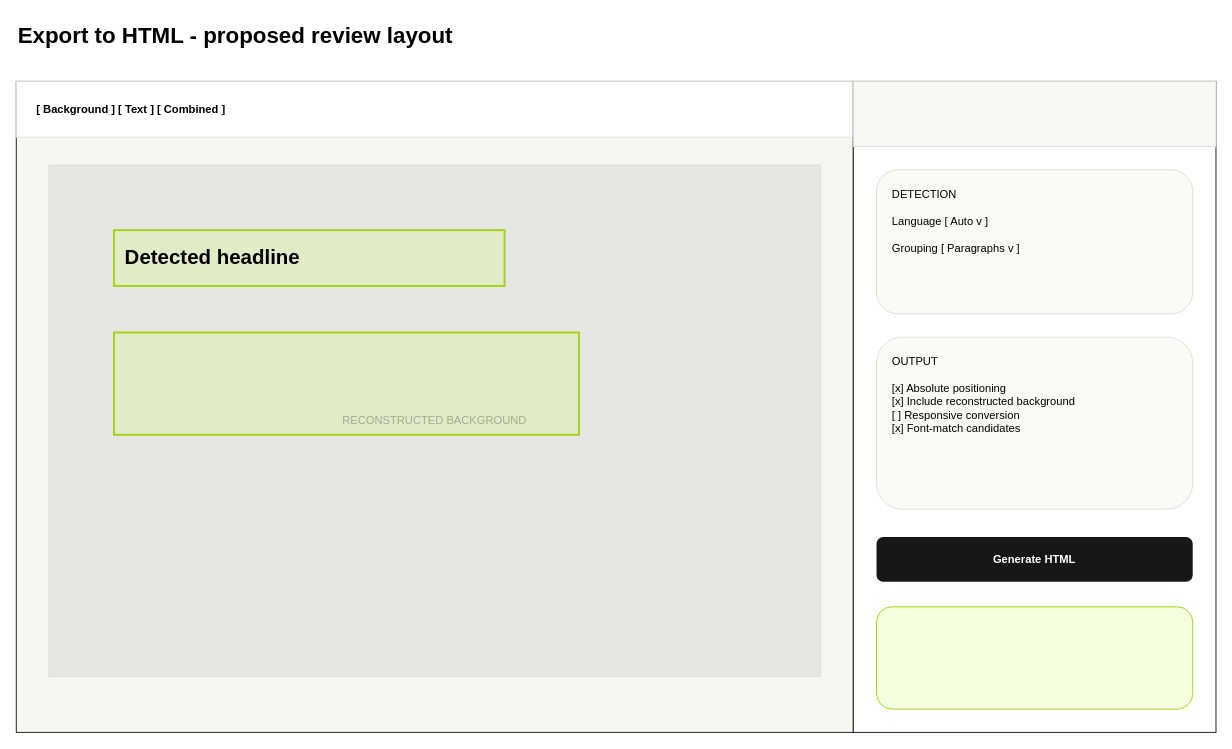
Some shapes in this 1232 by 749 pixel diagram are drawn without their labels. Each missing label, with the centre of its shape:
"2 EXPORT TO HTML Positioned, editable text" belongs at (x=1034, y=113).
"Detected paragraph text appears here and remains editable during review." belongs at (x=346, y=383).
"Export ready [ Download ZIP ] [ Copy markup ] [ Inspect CSS ]" belongs at (x=1034, y=657).
